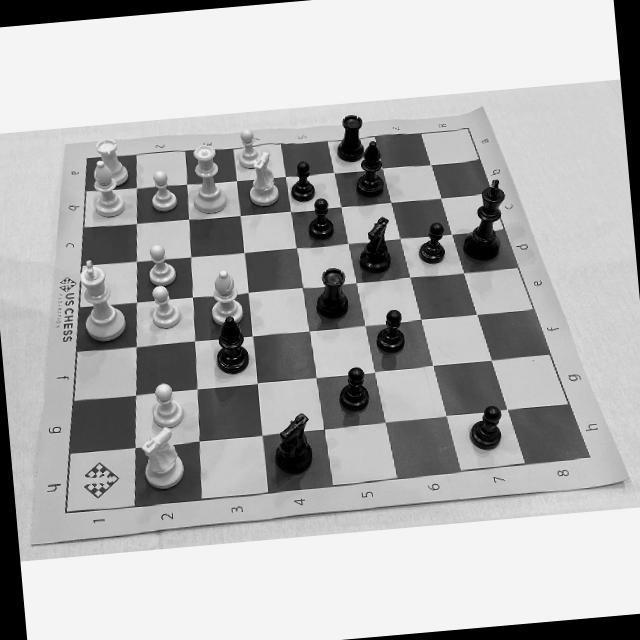chessboard: (66, 130, 585, 511)
